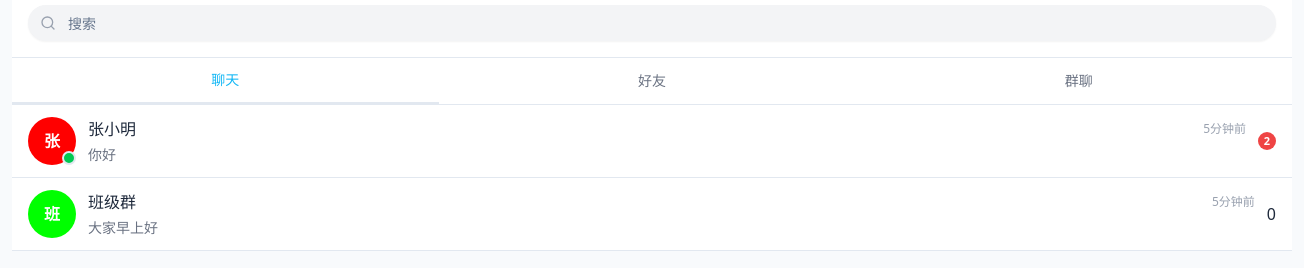
it: ChatList › switches to groups tab and displays groups
This screenshot has width=1304, height=268.
Step 1. Click the button "群聊" → point(1079, 81), box x1=865 y1=58 x2=1292 y2=104
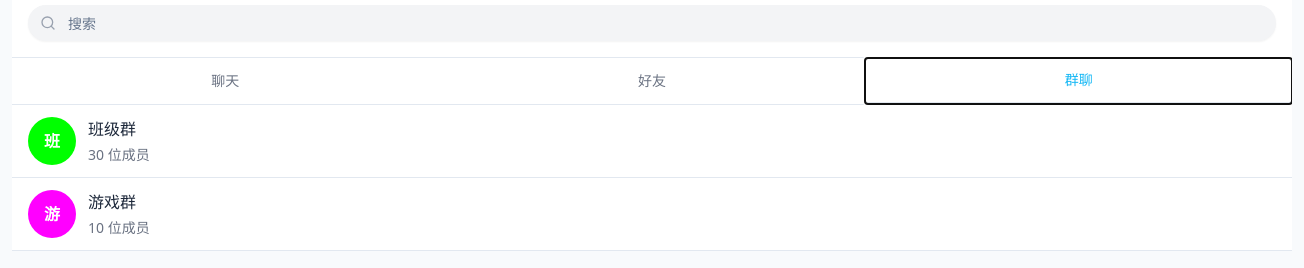
Check: the text "班级群" is shown, box x1=88 y1=118 x2=136 y2=140
Check: the text "游戏群" is shown, box x1=88 y1=191 x2=136 y2=213
